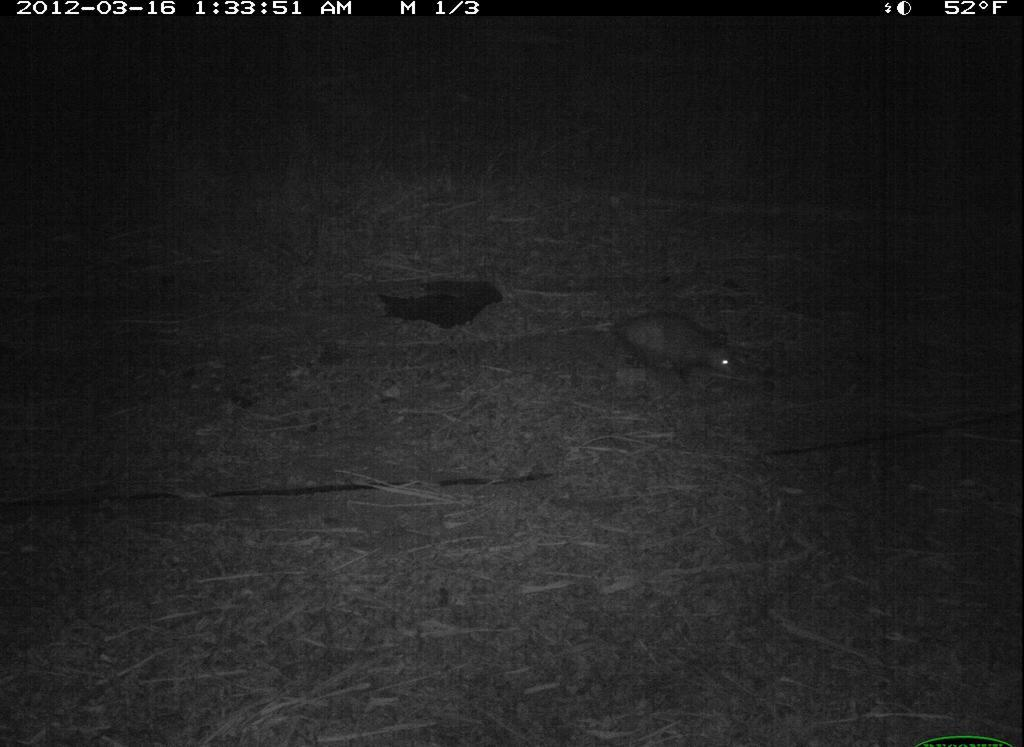opossum: (593, 295, 757, 400)
